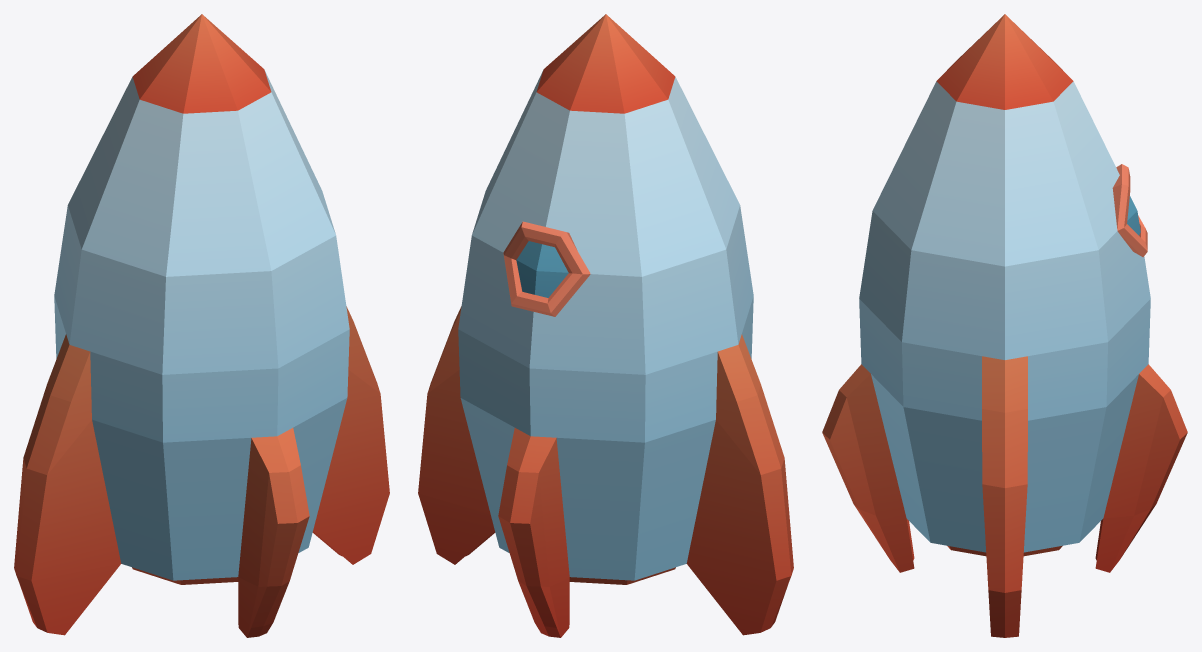
The model's file is low_poly_rocket.glb.
The picture shows the model from 3 angles, left to right: view 1: azimuth 30°, elevation 25°; view 2: azimuth 150°, elevation 25°; view 3: azimuth 270°, elevation 25°; orthographic projection. The views are drawn at different scales.
Visible parts, largest first — view 1: Sphere; view 2: Sphere, Torus.001; view 3: Sphere, Torus.001.
Part boxes in pixels (left/top/right/bottom): Sphere: left=14, top=14, right=389, bottom=637; Sphere: left=418, top=14, right=793, bottom=637; Torus.001: left=503, top=221, right=590, bottom=316; Sphere: left=822, top=14, right=1187, bottom=637; Torus.001: left=1112, top=164, right=1147, bottom=257.
Bounding box in the file's own units: 2.17 × 3.25 × 1.94.
Materials: 2 (2 with a texture image).
